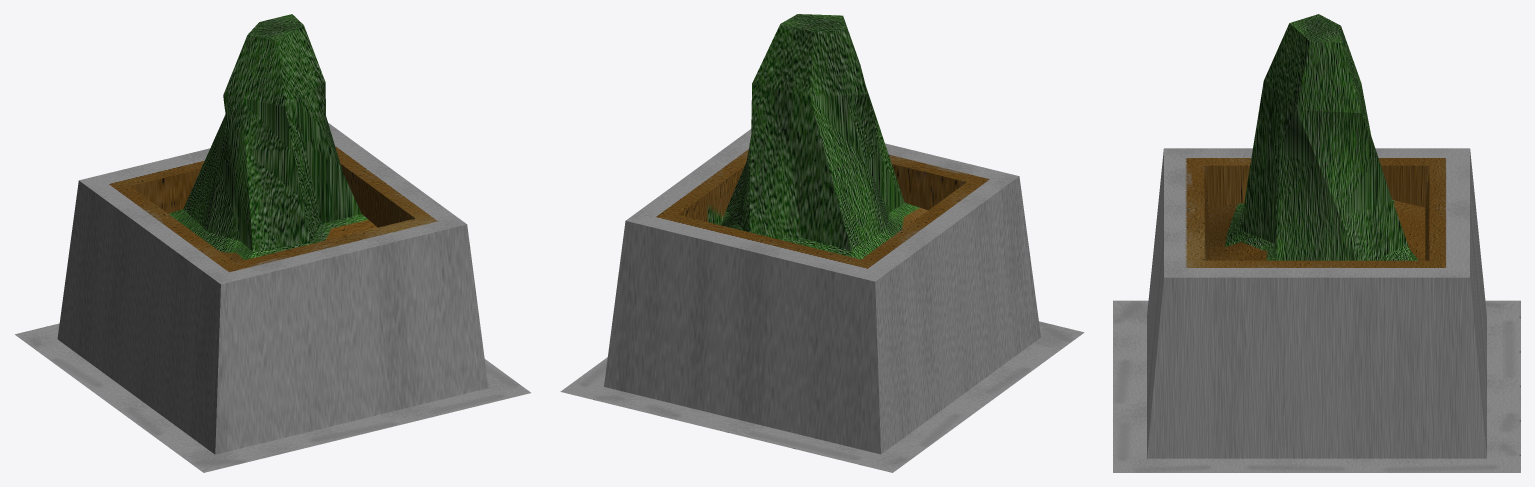
The model's file is Tile06_Closed.fbx.
3 renders of one model, left to right at view 1: azimuth 30°, elevation 25°; view 2: azimuth 150°, elevation 25°; view 3: azimuth 270°, elevation 25°, orthographic. The views are drawn at different scales.
Parts seen in each view (by area): view 1: Tile06_Closed; view 2: Tile06_Closed; view 3: Tile06_Closed.
Part boxes in pixels (box(x1,y1,x2,y2)): Tile06_Closed: box(15, 14, 530, 472); Tile06_Closed: box(560, 14, 1084, 472); Tile06_Closed: box(1113, 14, 1520, 472).
Size of the model in its own units: 1 by 0.9737 by 1.
